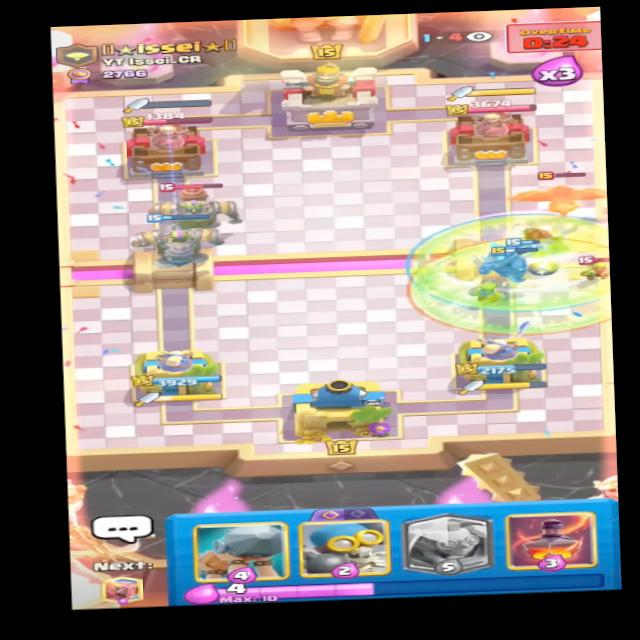Goblin: (574, 252, 620, 284)
Goblincurse: (393, 235, 622, 339)
Goblinmachine: (139, 175, 239, 232)
Pheonix: (510, 167, 604, 221)
